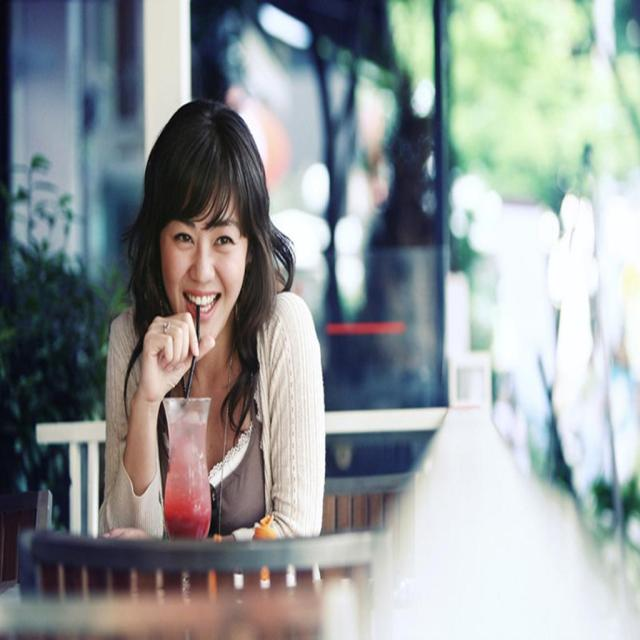Face: (165, 180, 268, 349)
